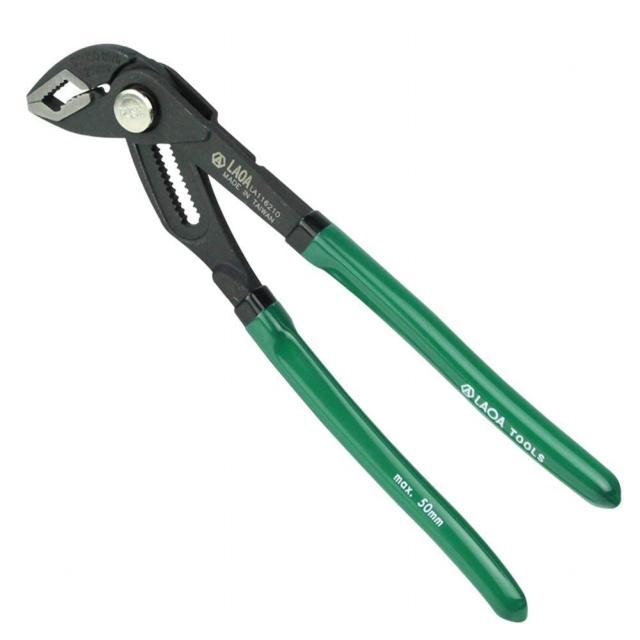pliers: (20, 36, 630, 628)
